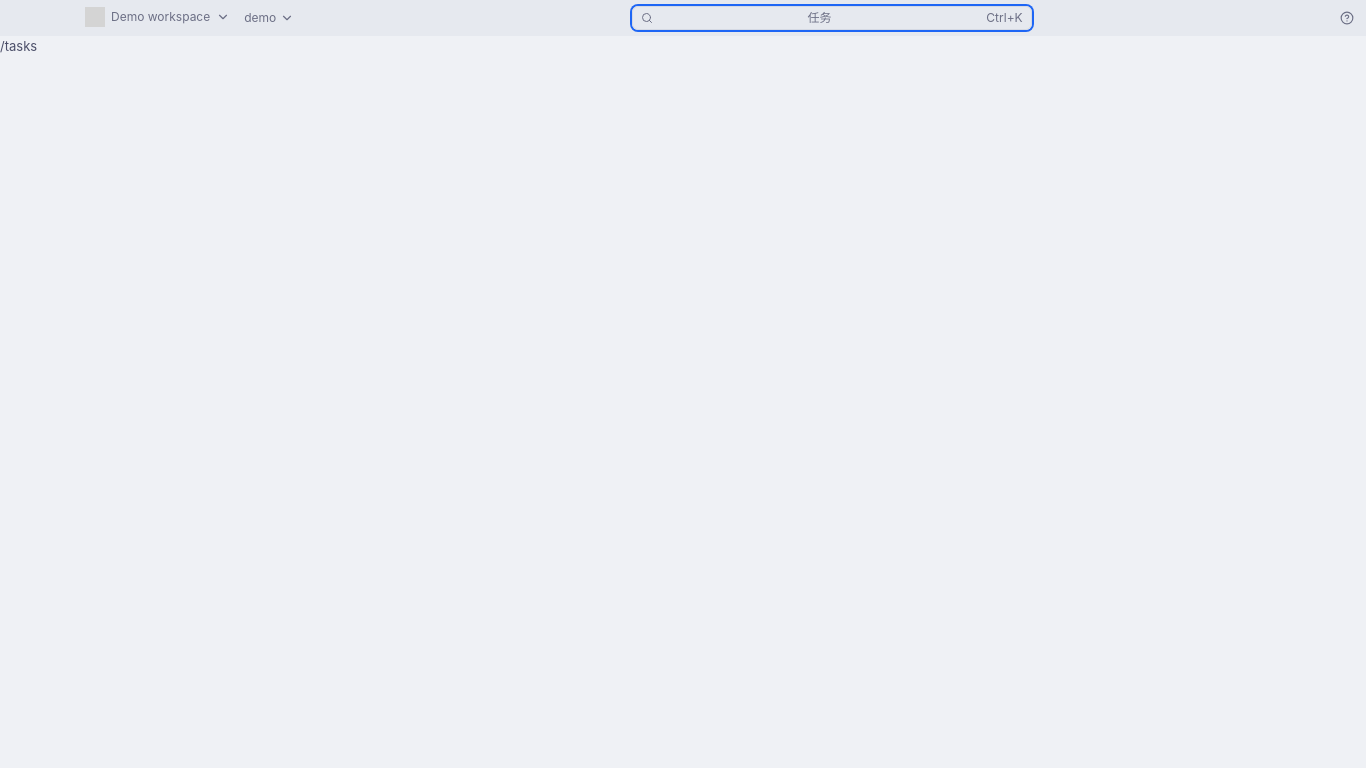
Test: opens commands from the title bar, focuses search and restores focus on Escape
Click the button with aria-label "搜索与命令" at (832, 18), box [632,6,1032,30]
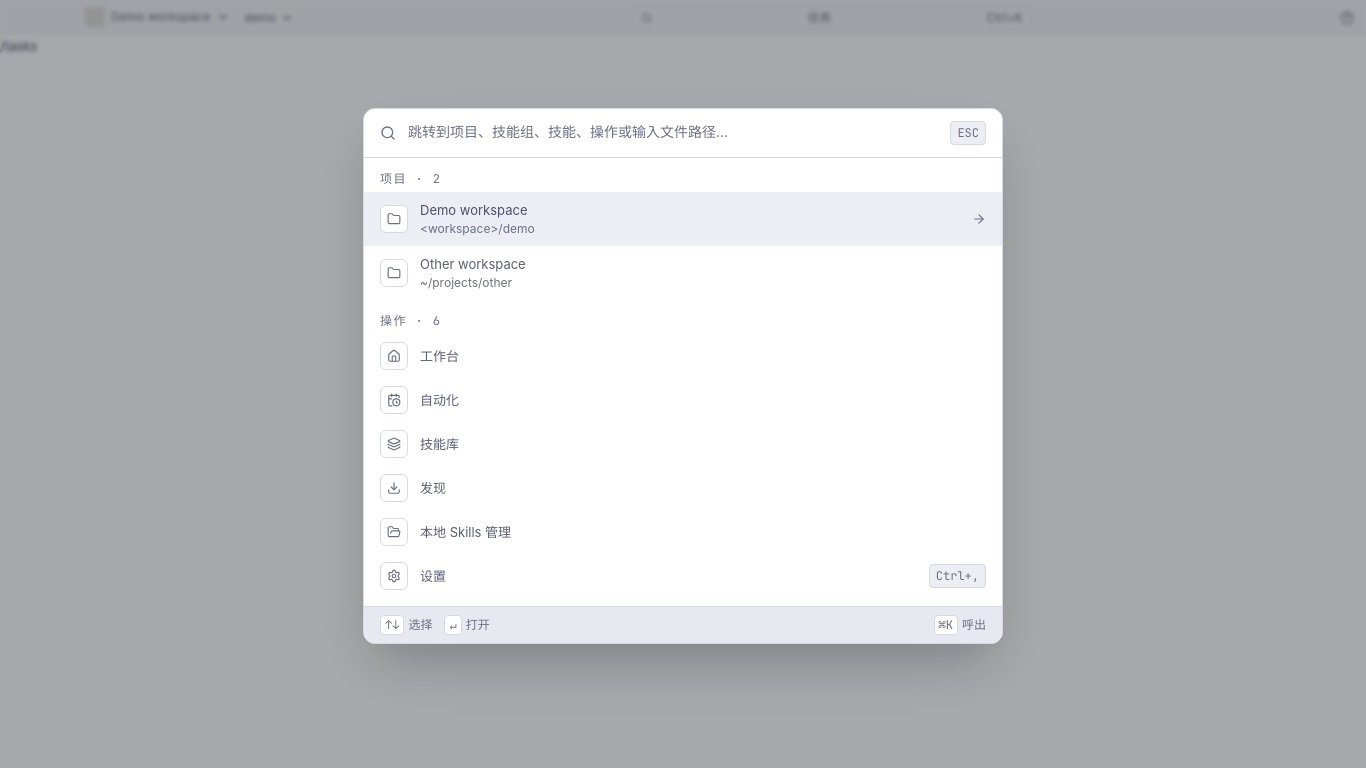
Expected: the dialog is shown, [363,108,1003,644]
Press Tab in the field with placeholder "跳转到项目、技能组、技能、操作或输入文件路径…", box [408,121,938,144]
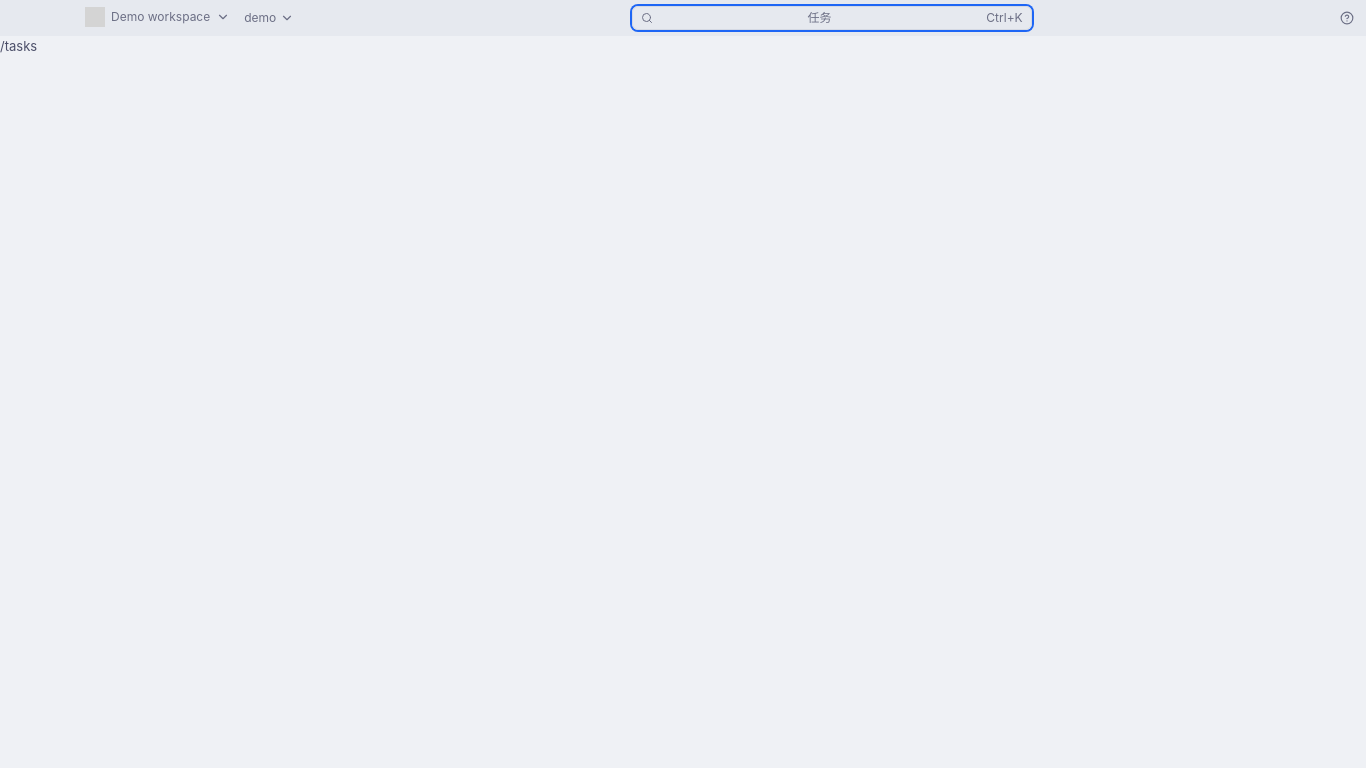
Expected: the dialog is gone
